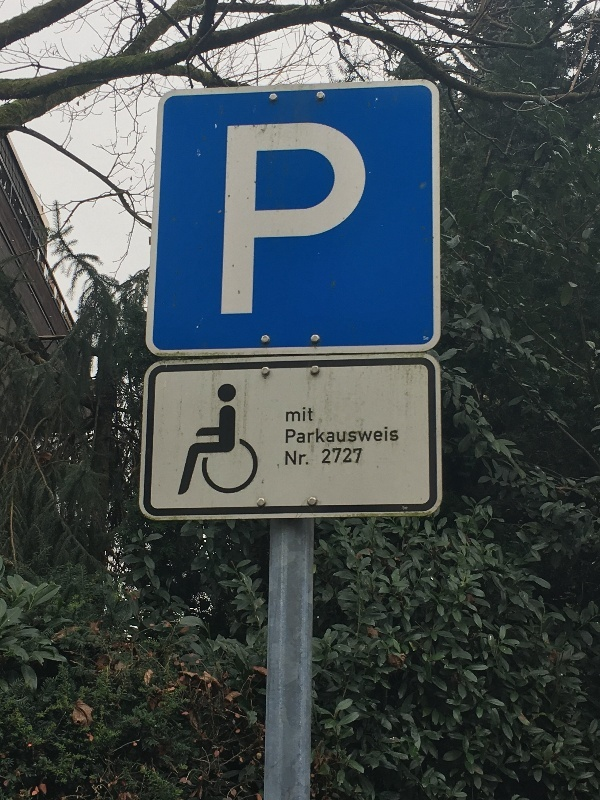text: (241, 121, 256, 322), (257, 121, 272, 322), (273, 121, 288, 322), (289, 121, 304, 322), (305, 121, 320, 322), (321, 121, 336, 322), (337, 121, 352, 322), (353, 121, 367, 322), (227, 121, 240, 322), (289, 426, 304, 444), (305, 426, 320, 444), (321, 426, 336, 444), (337, 426, 352, 444), (353, 426, 368, 444), (369, 426, 384, 444), (289, 406, 304, 423), (337, 447, 352, 464), (385, 426, 399, 444), (322, 447, 336, 464), (289, 451, 304, 466), (353, 447, 362, 464), (305, 406, 313, 423), (305, 451, 308, 466), (286, 426, 288, 444), (286, 406, 288, 423), (286, 451, 288, 466)
